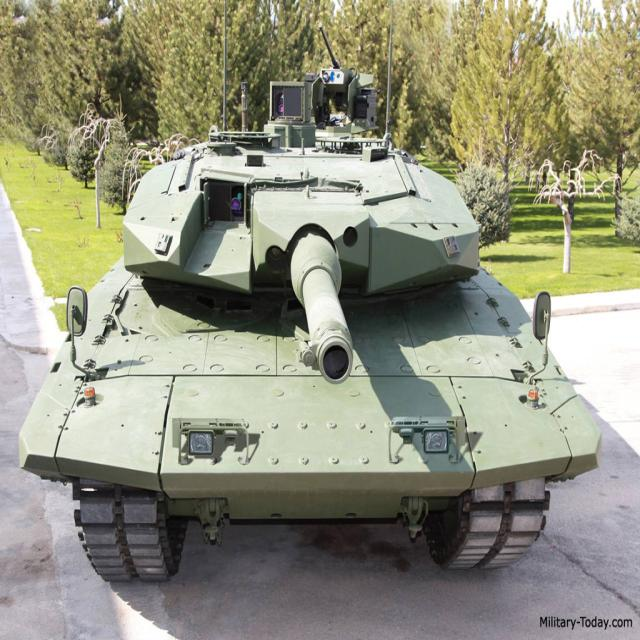Tank: (49, 38, 599, 568)
